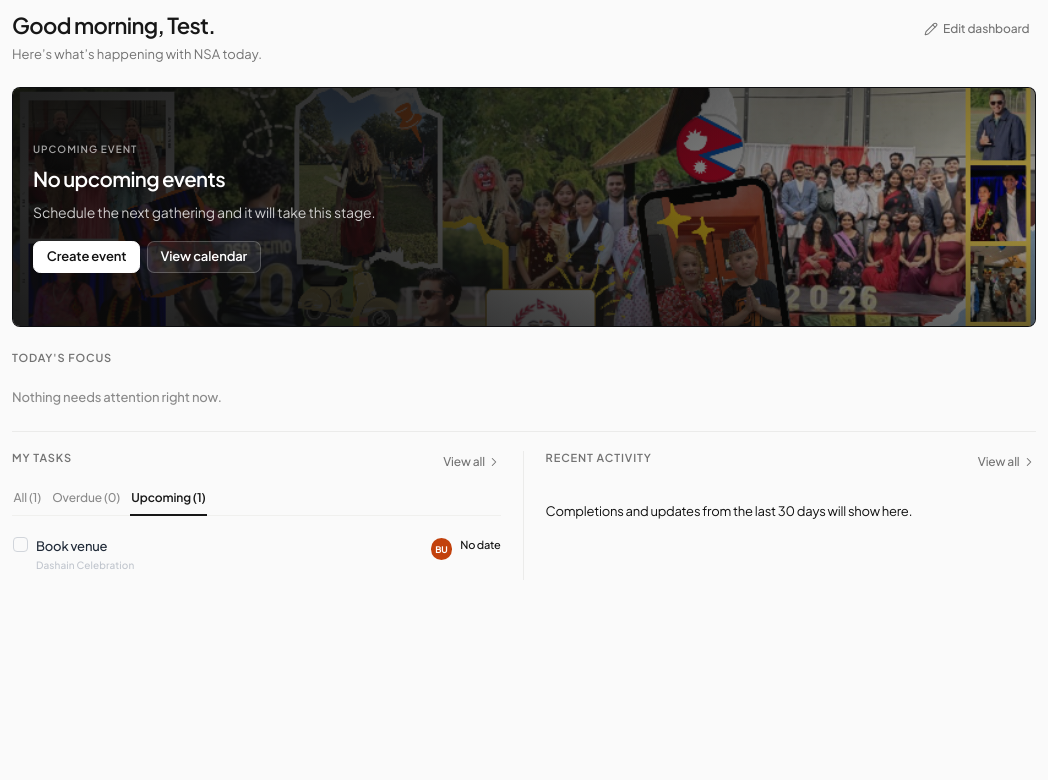
it: HomePage › rolls back and shows an error when completing a task fails
This screenshot has width=1048, height=780.
Expected: the text "Book venue" is shown, [36,538,107,554]
Click the button named "Mark Book venue complete". click: [20, 544]
box: [13,537,28,552]
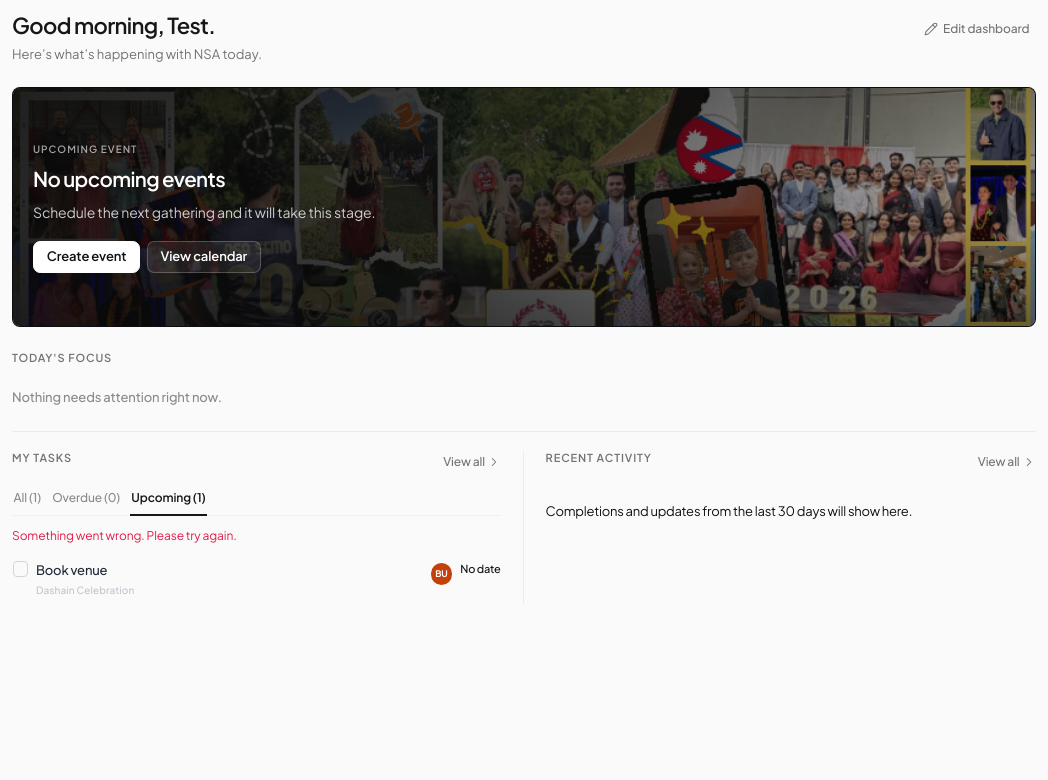
Expected: the text "Book venue" is shown, [36,562,107,578]
Result: the message reads "Something went wrong. Please try again." at [12,528,236,543]
